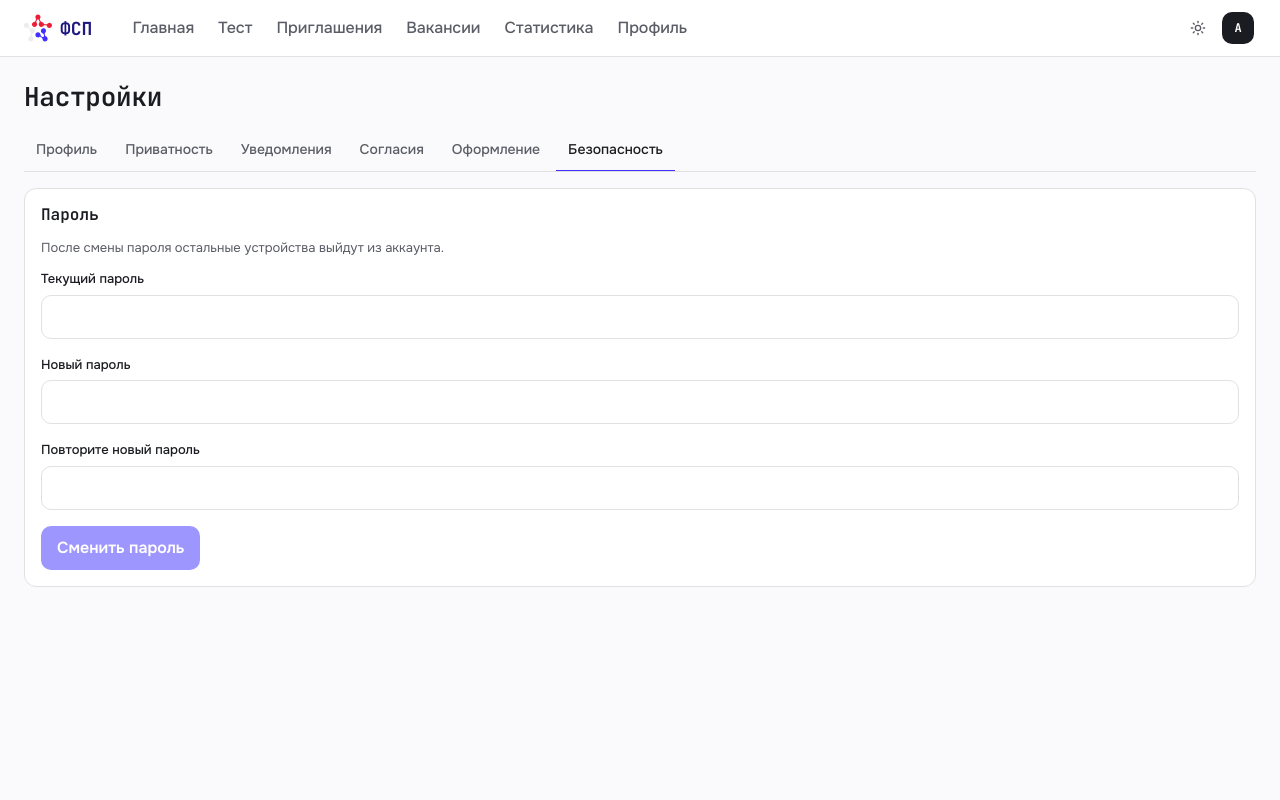
it: безопасность: неверный текущий пароль — понятная ошибка
Type "bad-password" into the password field with test id "settings-password-current" at (640, 317), box [41, 295, 1239, 339]
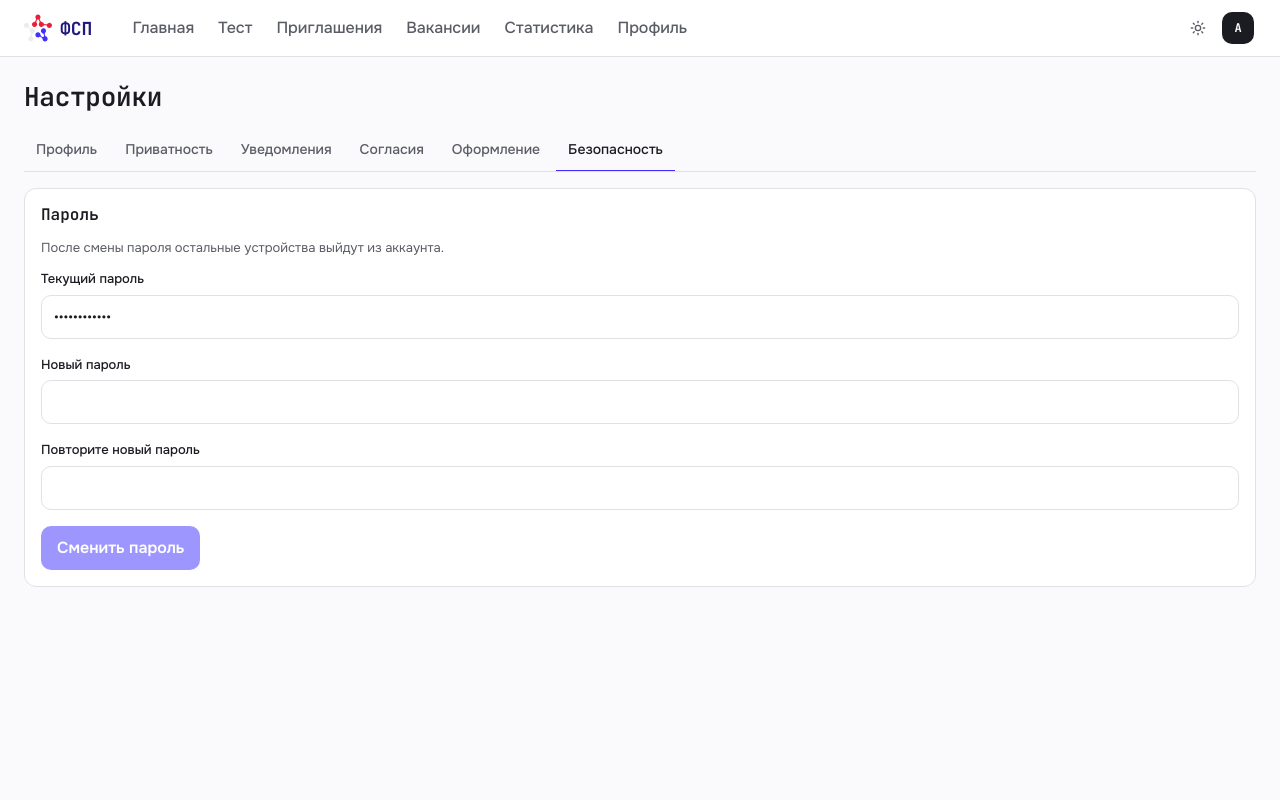
Type "new-password-1" into the password field with test id "settings-password-new" at (640, 402), box [41, 380, 1239, 424]
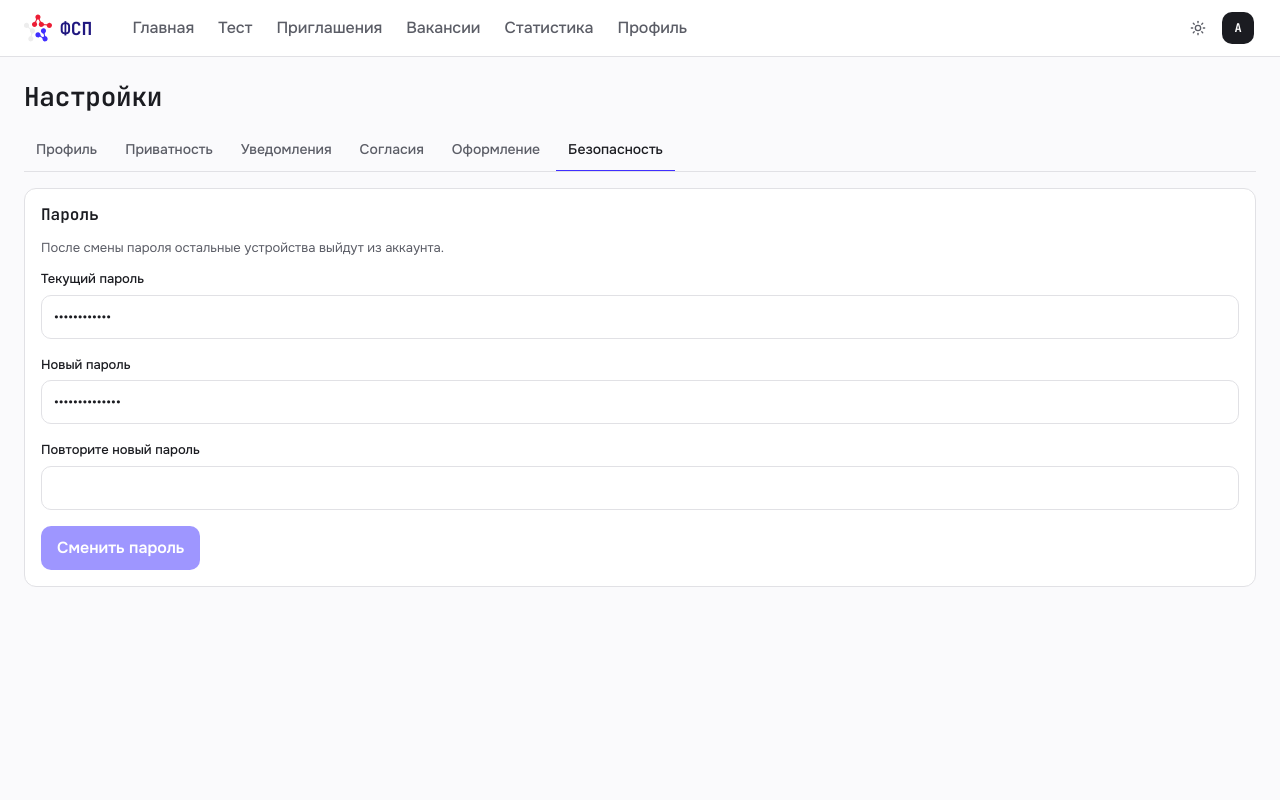
Type "new-password-1" into the password field with test id "settings-password-repeat" at (640, 488), box [41, 466, 1239, 510]
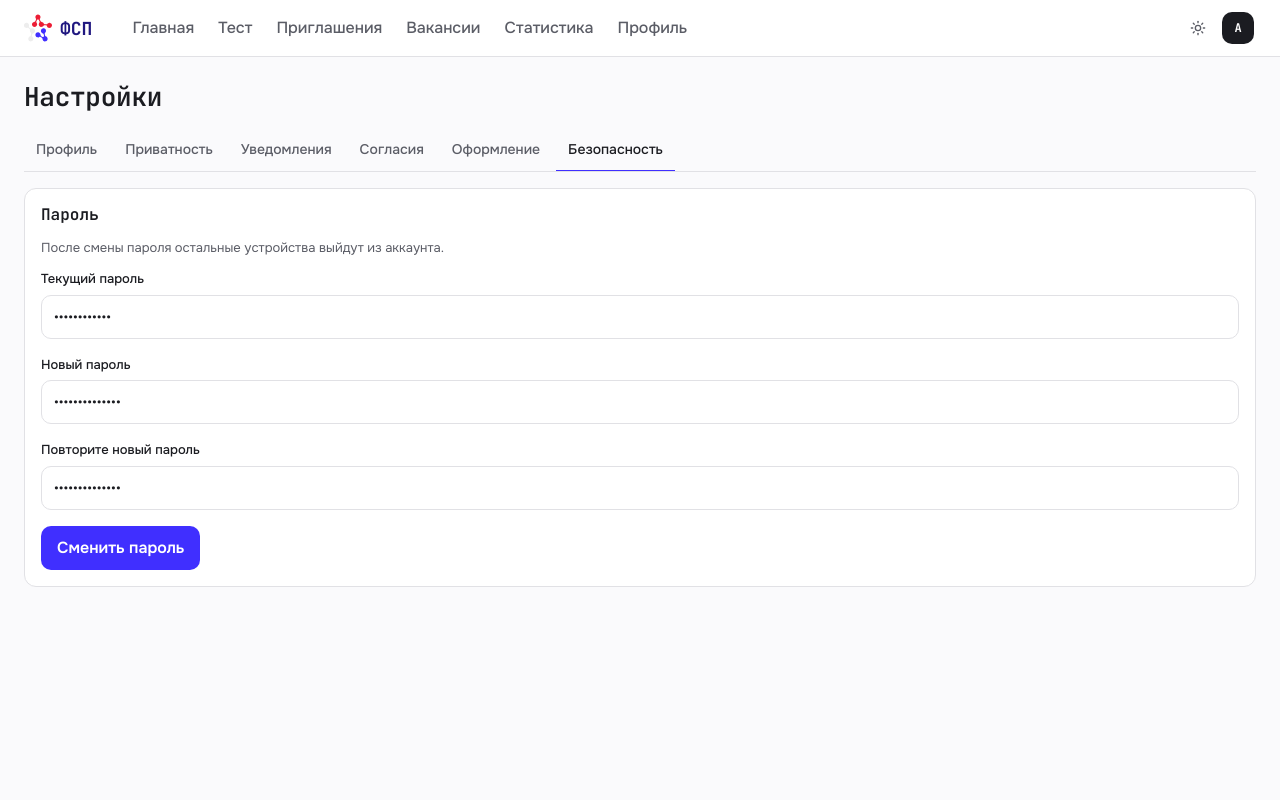
Click the button with test id "settings-password-submit" at (121, 548), box [41, 526, 200, 570]
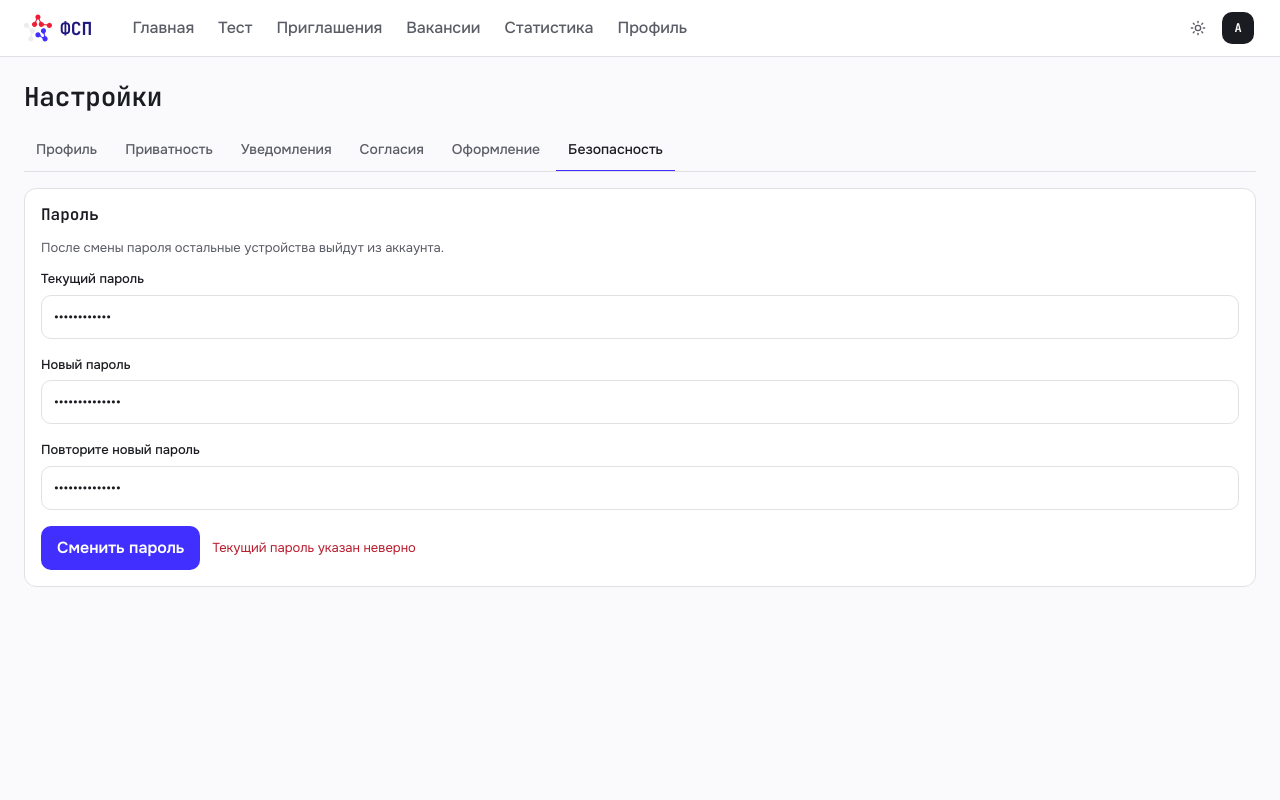
Now the message with test id "settings-password-message" reads "Текущий пароль указан неверно", box [212, 539, 416, 556]
